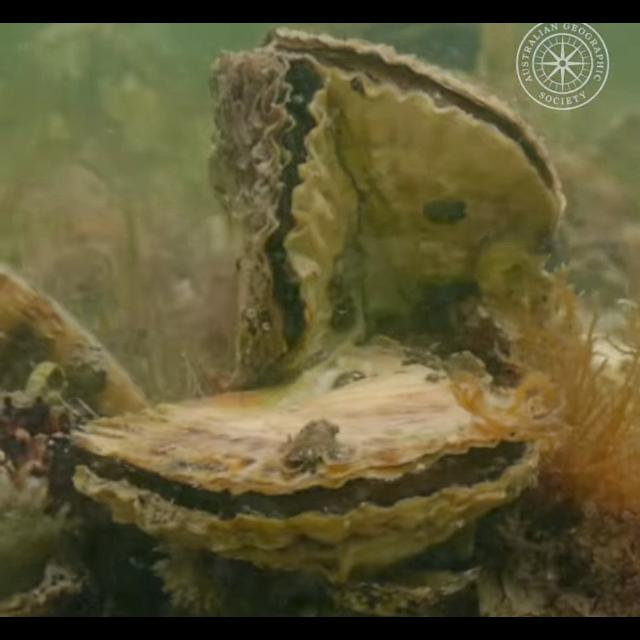Oyster-Closed: (0, 267, 150, 438)
Oyster-Open: (69, 336, 544, 586), (262, 27, 568, 349), (207, 47, 361, 393)
